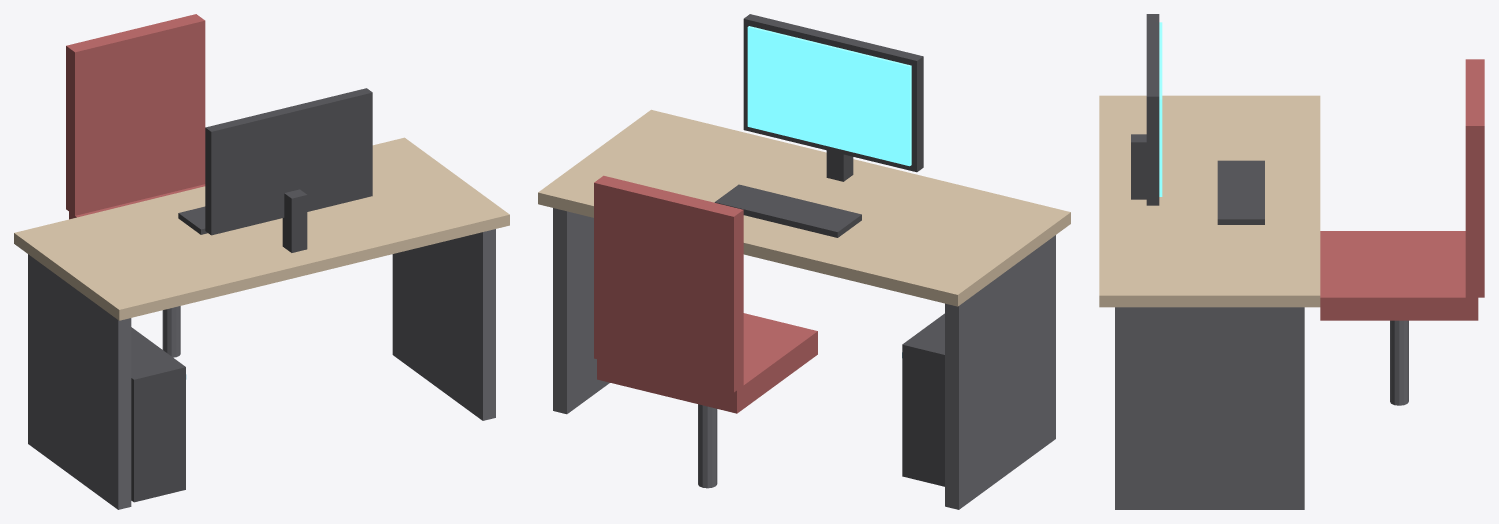
File: PCDesk.fbx
The picture shows the model from 3 angles, left to right: view 1: azimuth 30°, elevation 25°; view 2: azimuth 150°, elevation 25°; view 3: azimuth 270°, elevation 25°; orthographic projection. The views are drawn at different scales.
Visible parts, largest first — view 1: PCDesk_Mesh; view 2: PCDesk_Mesh; view 3: PCDesk_Mesh.
Boxes of the visible parts, bbox=[...] form: PCDesk_Mesh: bbox=[14, 14, 509, 509]; PCDesk_Mesh: bbox=[538, 14, 1070, 509]; PCDesk_Mesh: bbox=[1099, 14, 1484, 509].
Size of the model in its own units: 1.5 by 1.22 by 1.25.
